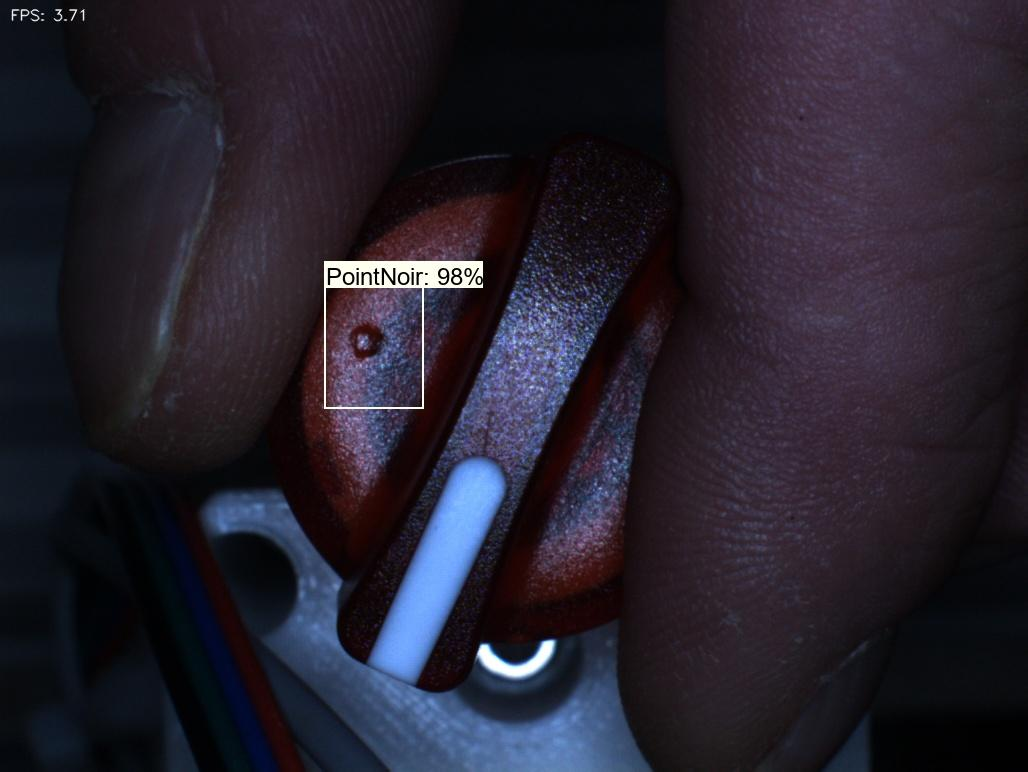Choc: (325, 296, 413, 387)
